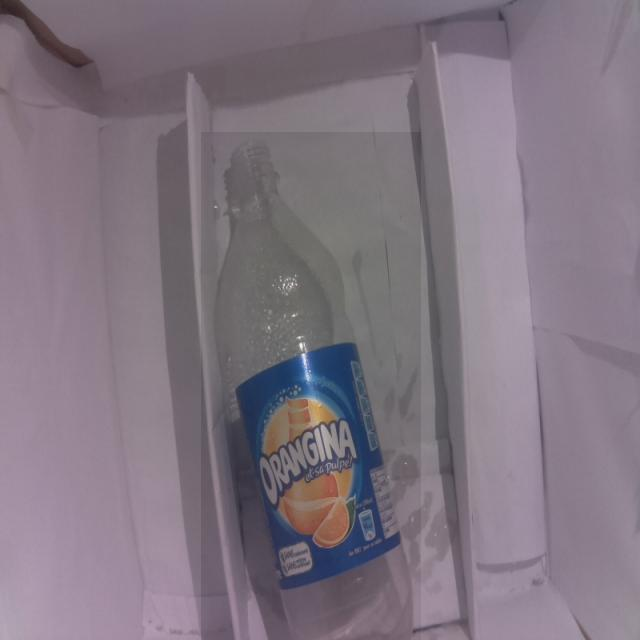bottle: (201, 132, 421, 640)
label: (233, 375, 398, 564)
